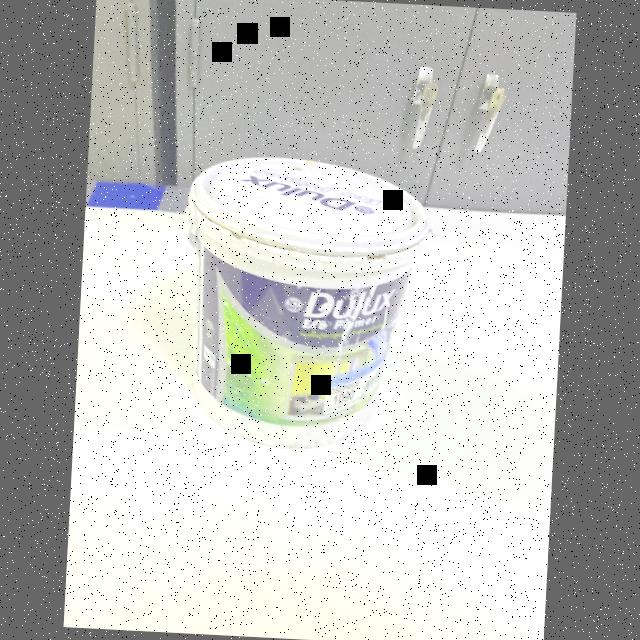paint_bucket: (158, 142, 446, 464)
